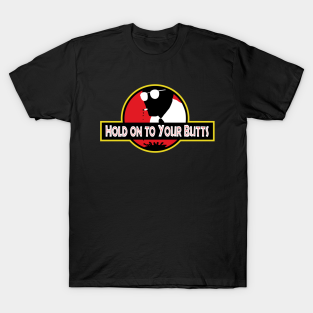design: (98, 82, 217, 155)
